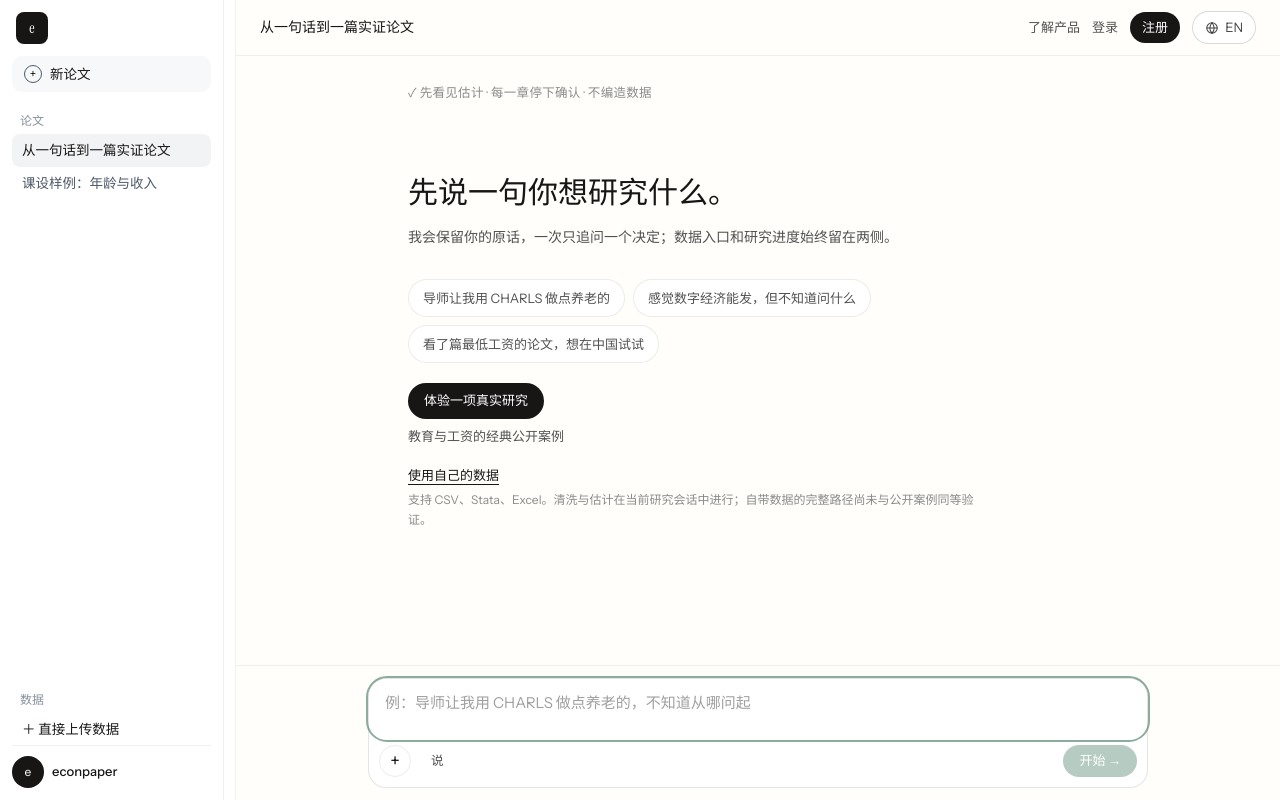
Test: App 三栏布局 › GuidePage 发送研究想法后进入空桌对话，并保留用户原文
The width and height of the screenshot is (1280, 800).
Click the button with test id "desk-open-guide".
click(1054, 28)  # box [1028,18,1080,37]
(page scrolled)
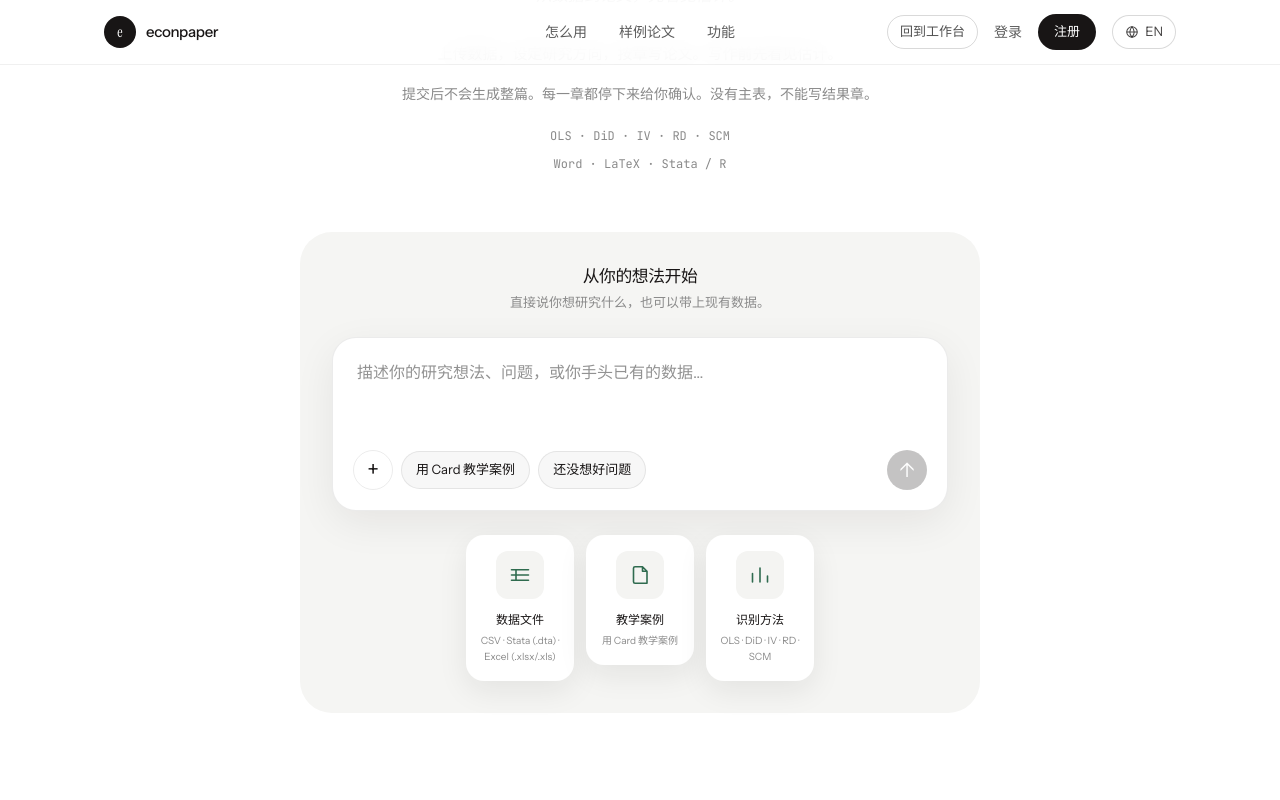
Type "我想研究高铁开通是否促进县域创业" into the text box with test id "guide-idea-input".
click(640, 401); type("我想研究高铁开通是否促进县域创业")  # box [353,358,927,444]
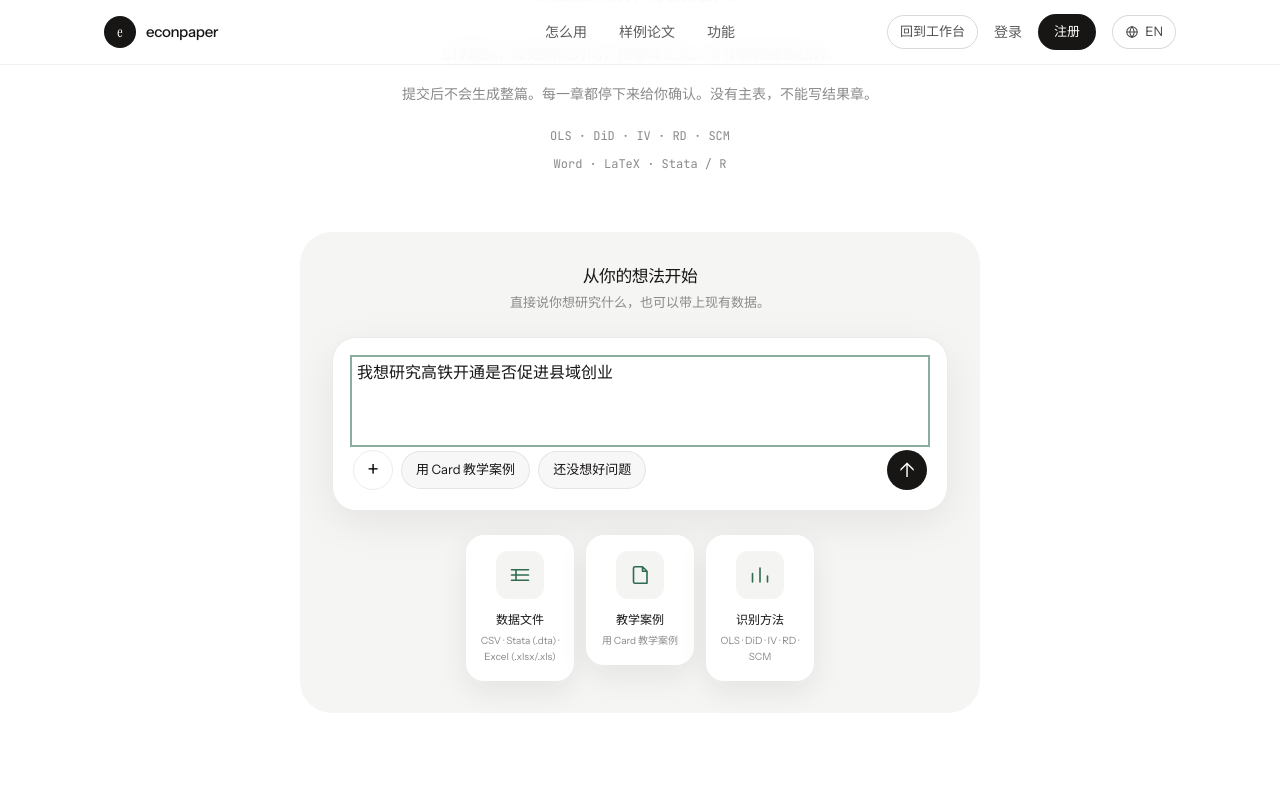
Click the button with test id "guide-send-idea".
click(907, 470)  # box [887,450,927,490]
(page scrolled)
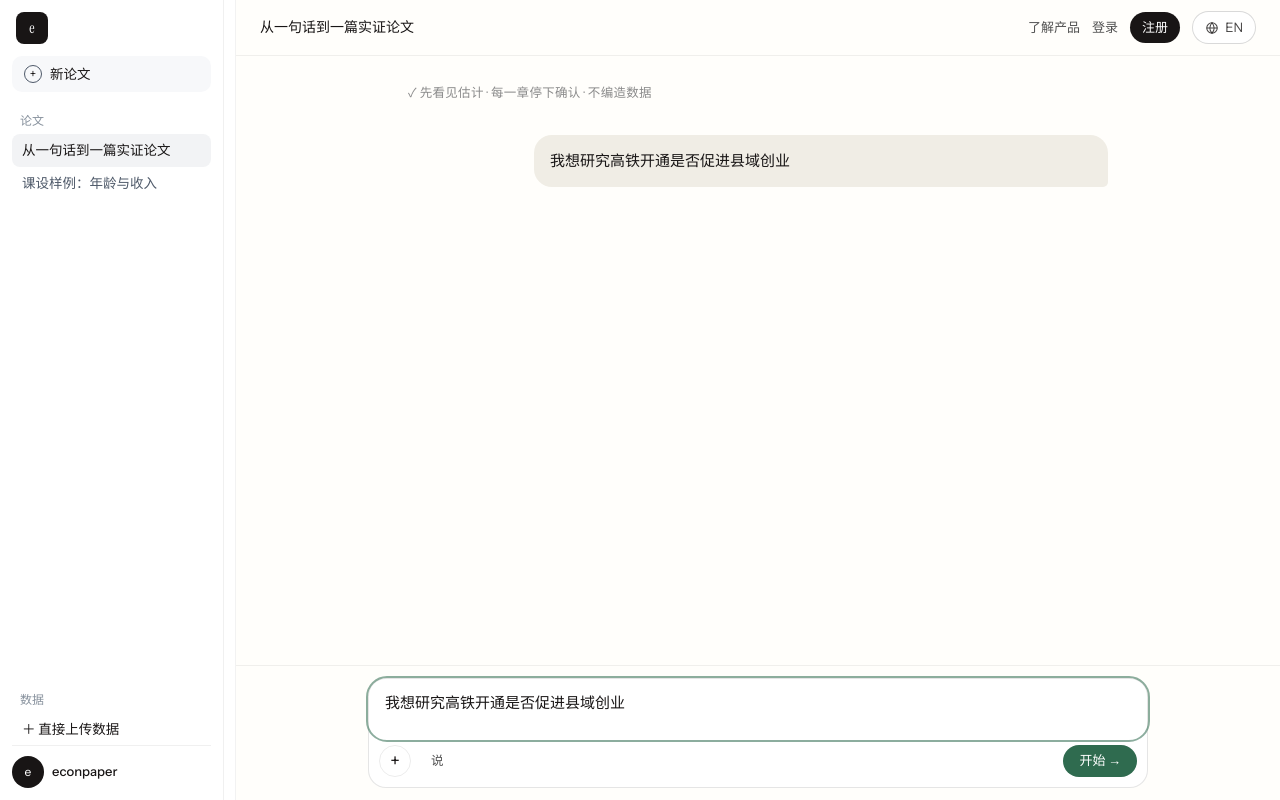
Check: the element with test id "desk-page" is shown
Check: the text box with test id "desk-paper" holds "我想研究高铁开通是否促进县域创业", box [369,679,1147,739]
